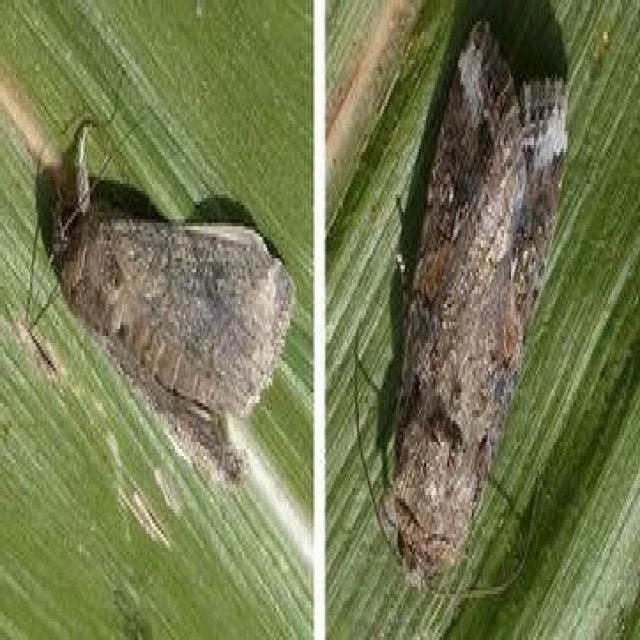army worm: (361, 30, 575, 617), (22, 126, 302, 498)
